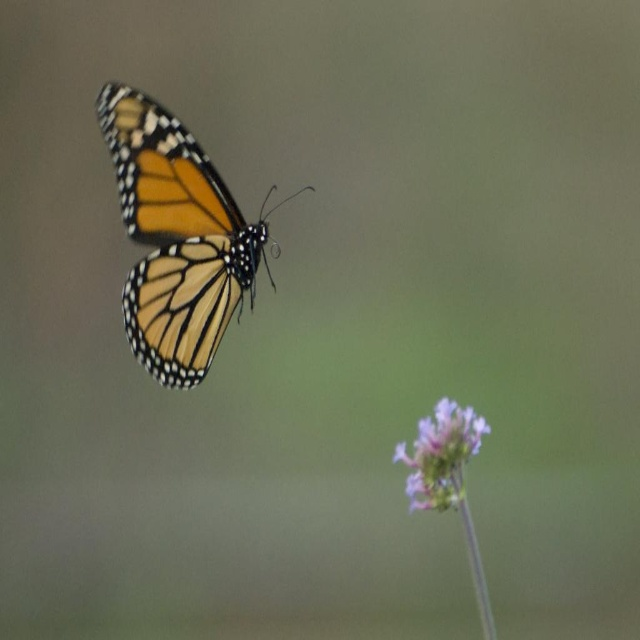Butterfly: (96, 79, 314, 389)
